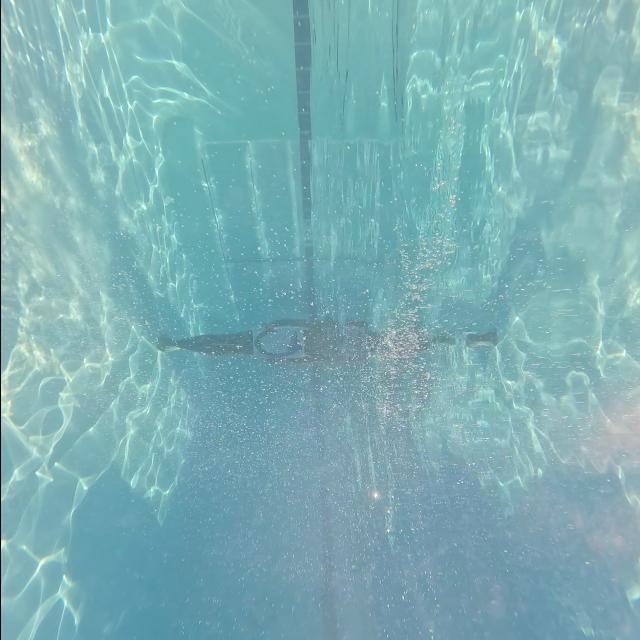blue_side: (252, 328, 303, 357)
